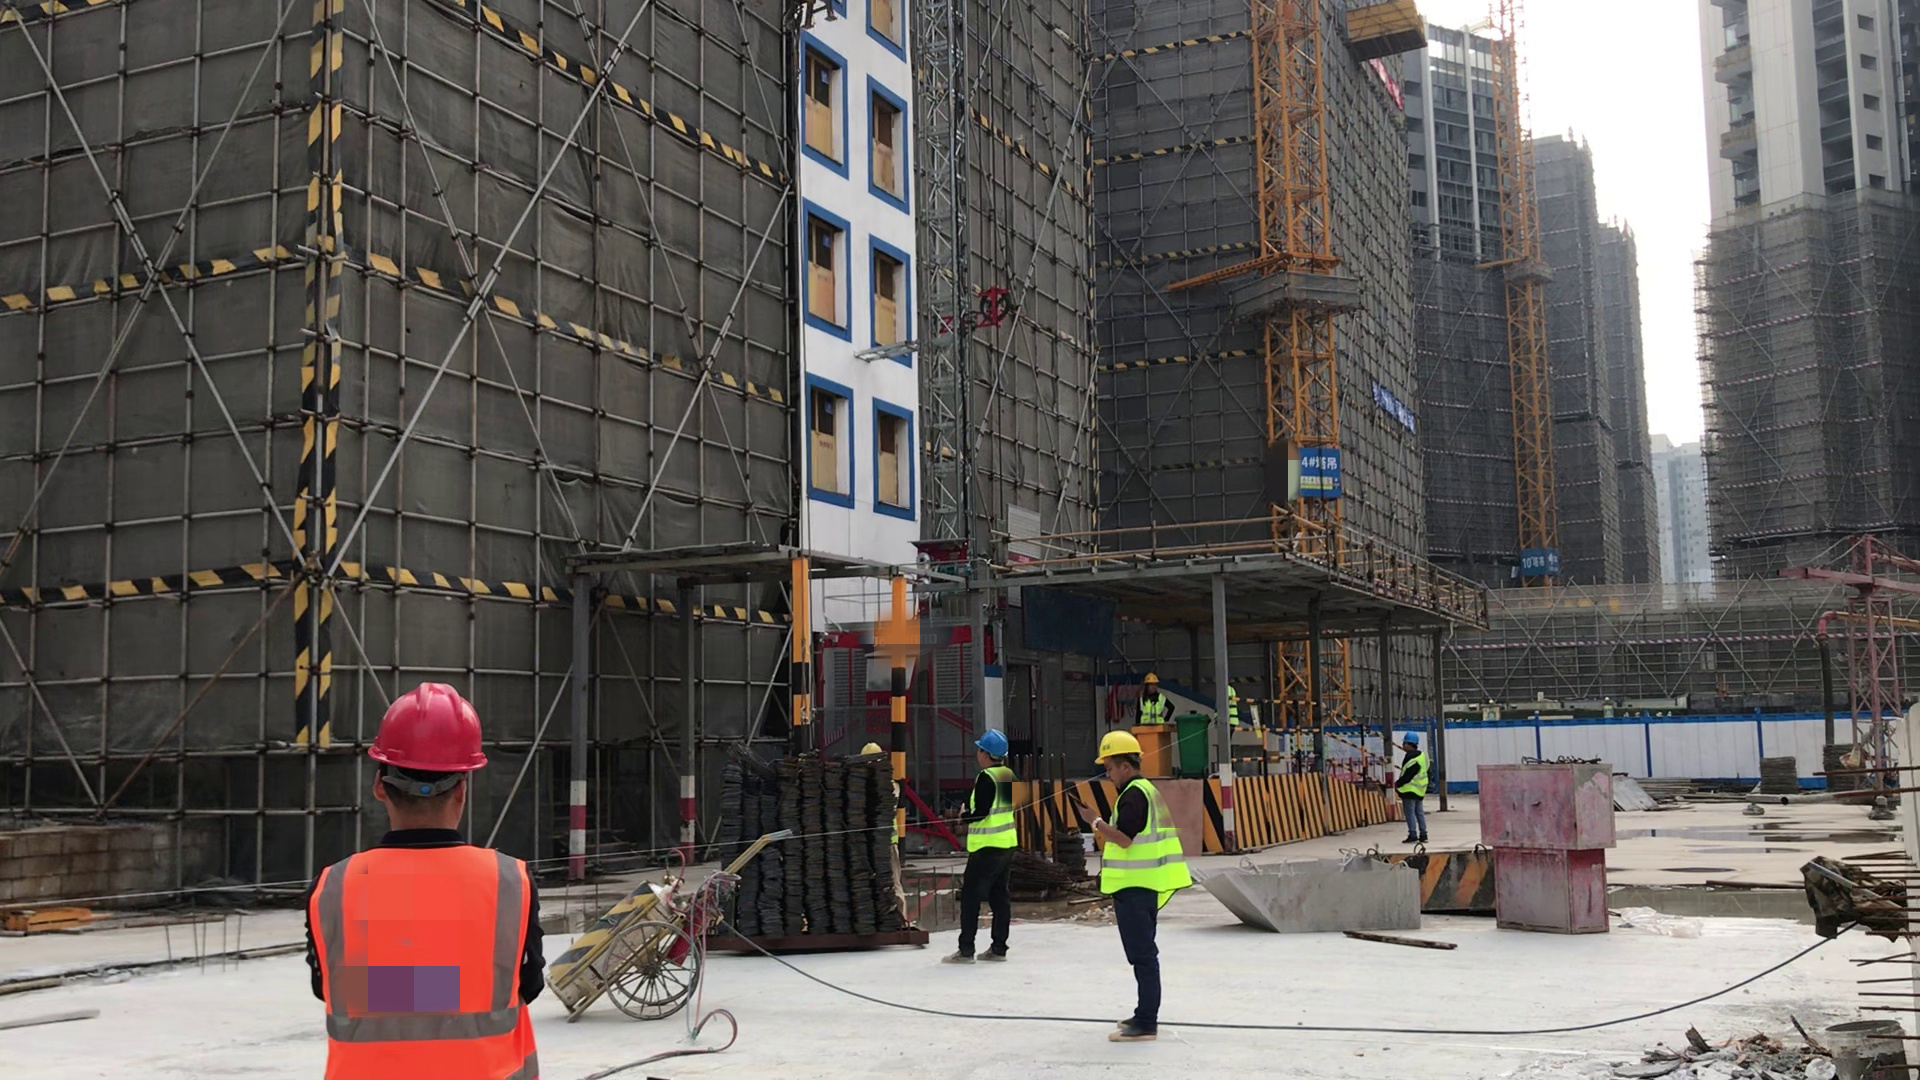fence: (1227, 666, 1393, 786)
handcart: (566, 829, 760, 1035)
helmet: (360, 686, 508, 784), (1090, 727, 1148, 767), (972, 732, 1007, 765), (1402, 730, 1425, 754), (1144, 668, 1161, 687)
hopper: (1195, 838, 1421, 941), (1414, 834, 1491, 918)
person: (307, 679, 546, 1080), (1069, 727, 1186, 1055), (949, 723, 1016, 964), (1389, 726, 1433, 845), (1133, 669, 1179, 730), (1225, 678, 1239, 743)
slogan: (1364, 379, 1451, 487)
vest: (307, 847, 543, 1080), (1099, 781, 1189, 909), (965, 763, 1017, 862), (1388, 749, 1432, 806), (1140, 687, 1168, 724), (1227, 684, 1240, 729)
